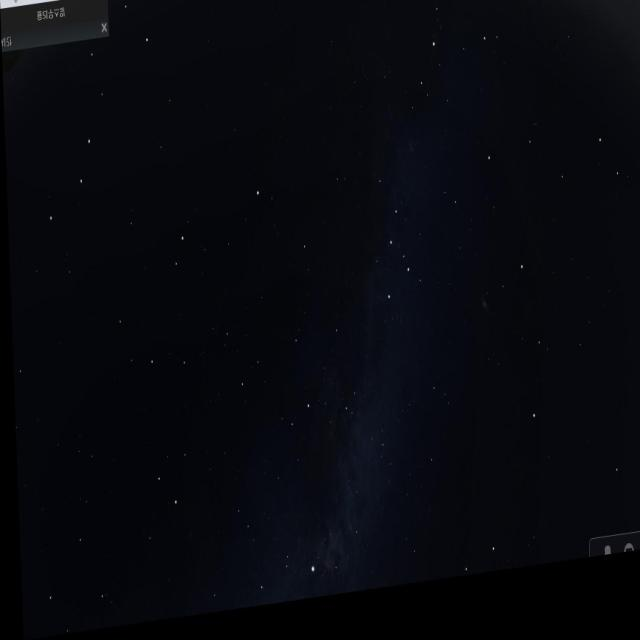cassiopeia: (361, 178, 421, 333)
ursa_major: (39, 0, 159, 228)
